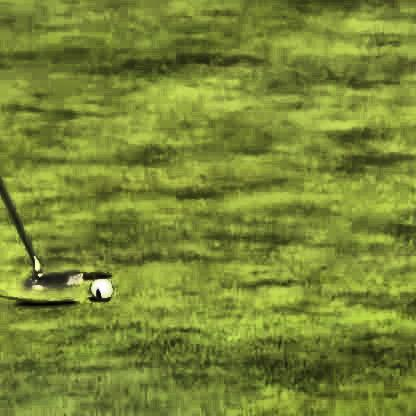golfball: (88, 277, 110, 299)
